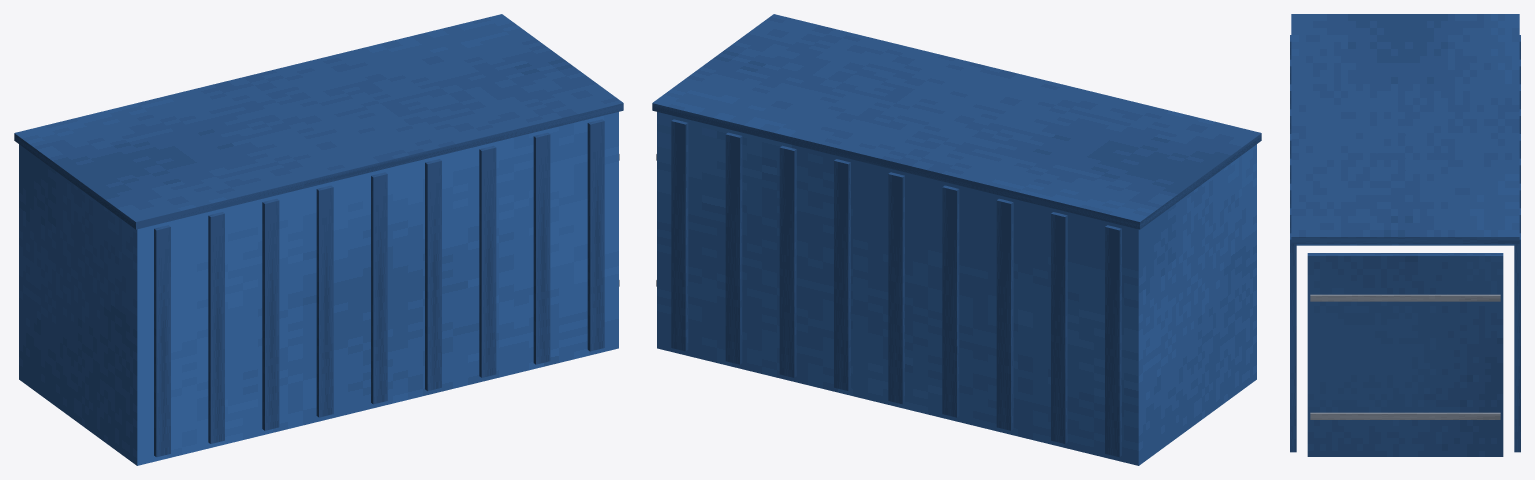
File: prop_container.glb
3 views of the same model, side by side, from view 1: azimuth 30°, elevation 25°; view 2: azimuth 150°, elevation 25°; view 3: azimuth 270°, elevation 25° (orthographic). The views are drawn at different scales.
Parts seen in each view (by area): view 1: prop_container; view 2: prop_container; view 3: prop_container.
Part boxes in pixels (x1,y1,x2,y2): prop_container: (14,14,623,465); prop_container: (652,14,1261,465); prop_container: (1290,14,1520,456).
Size of the model in its own units: 4.1 by 1.95 by 1.77.
Materials: 1 (1 with a texture image).
